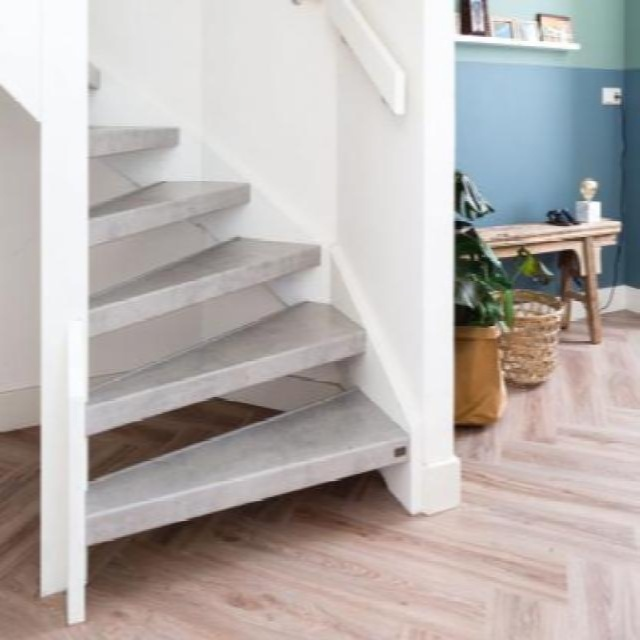stair: (12, 19, 443, 556)
